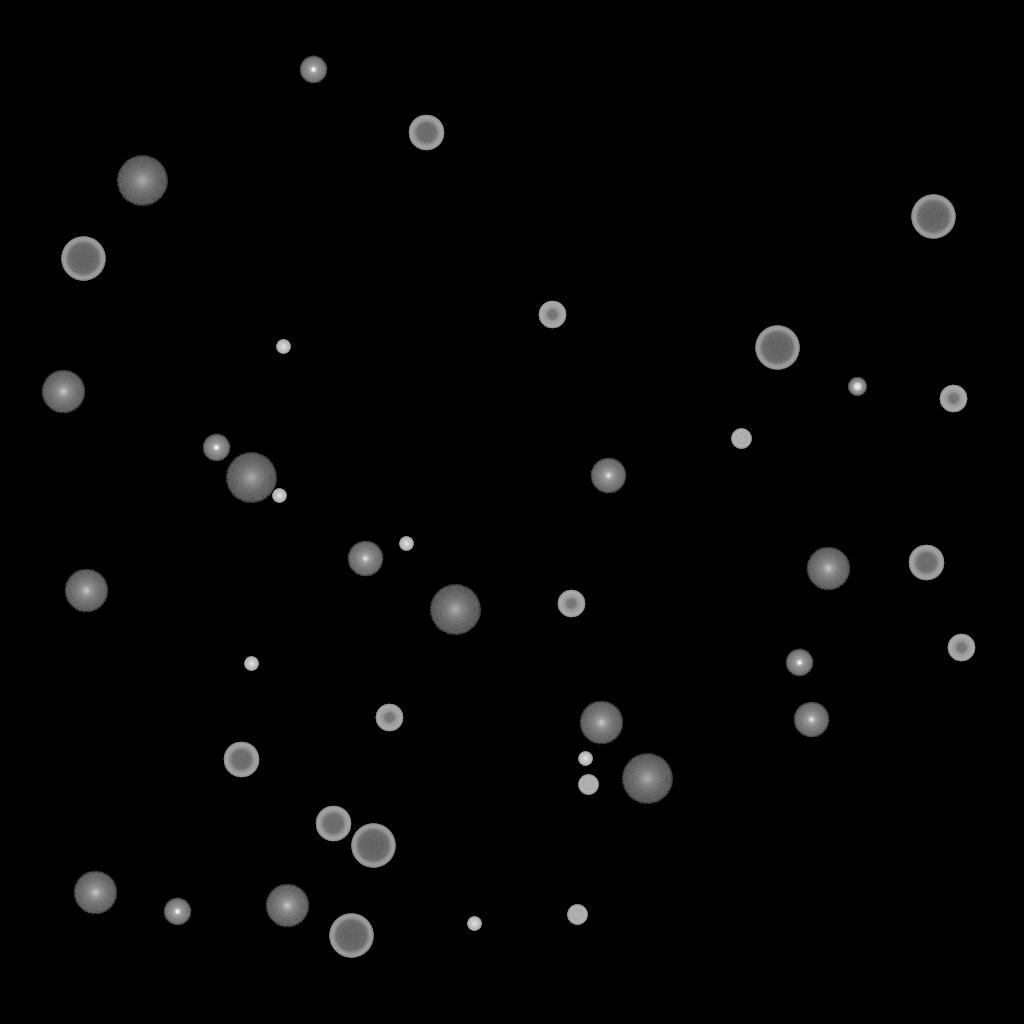depth:-10: (785, 649, 813, 677), (163, 898, 191, 926), (202, 434, 230, 462), (299, 56, 327, 84)
depth:-20: (848, 378, 866, 396)
depth:-30: (244, 657, 258, 671), (276, 340, 290, 354), (467, 917, 481, 931), (272, 489, 286, 503), (399, 537, 413, 551), (578, 752, 592, 766)
depth:-40: (567, 905, 587, 925), (731, 429, 751, 449), (578, 775, 598, 795)
depth:-50: (947, 634, 975, 662), (538, 301, 566, 329), (939, 385, 967, 413), (375, 704, 403, 732), (557, 590, 585, 618)
depth:-60: (315, 806, 351, 842), (223, 742, 259, 778), (908, 545, 944, 581), (408, 115, 444, 151)
depth:-70: (755, 326, 799, 370), (329, 914, 373, 958), (61, 237, 105, 281), (911, 195, 955, 239), (351, 824, 395, 868)
depth:0: (590, 458, 626, 494), (793, 702, 829, 738), (347, 541, 383, 577)
depth:10: (806, 547, 850, 591), (265, 884, 309, 928), (579, 701, 623, 745), (73, 871, 117, 915), (41, 370, 85, 414), (64, 569, 108, 613)
depth:20: (621, 754, 673, 804), (225, 453, 277, 503), (429, 585, 481, 635), (116, 156, 168, 206)
